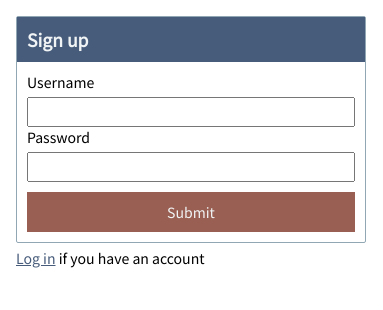
Scenario: SignupForm › input validation › displays an error message if the username is too short
This screenshot has width=383, height=310.
Type "Bob" into the field labelled "Username" at [191, 112], box left=27, top=97, right=355, bottom=127
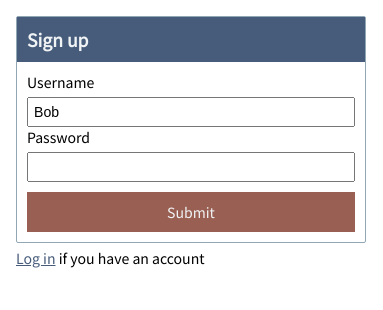
Type "1Abcdefgh2" into the password field labelled "Password" at [191, 167], box left=27, top=152, right=355, bottom=182
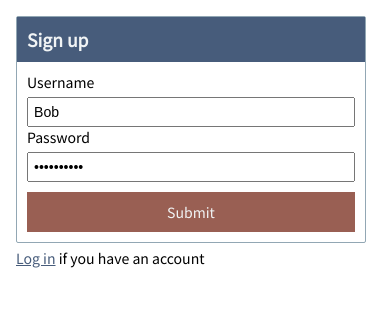
Click the button "Submit" at [191, 212], box left=27, top=192, right=355, bottom=232
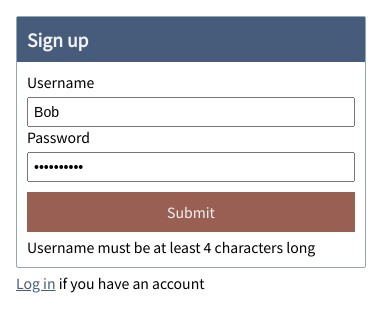
Expected: the text "Username must be at least 4 characters long" is shown, left=27, top=237, right=355, bottom=257
